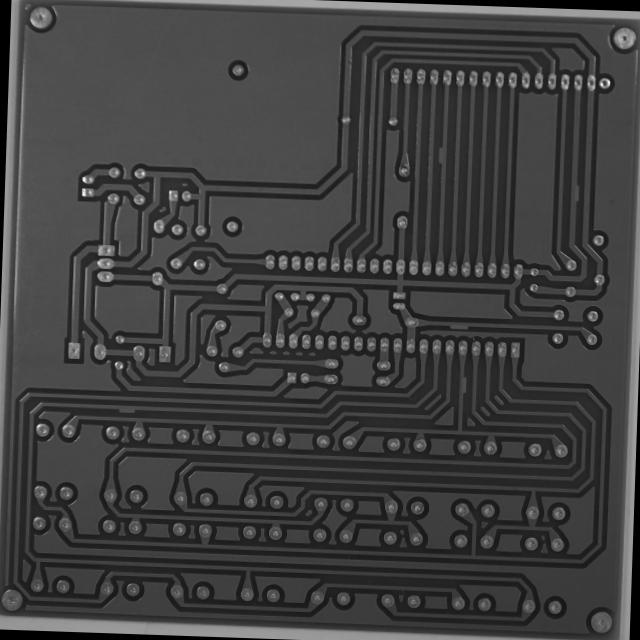spur: (444, 317, 472, 331), (568, 180, 582, 206), (114, 402, 140, 416), (433, 144, 449, 166), (455, 372, 468, 396)
